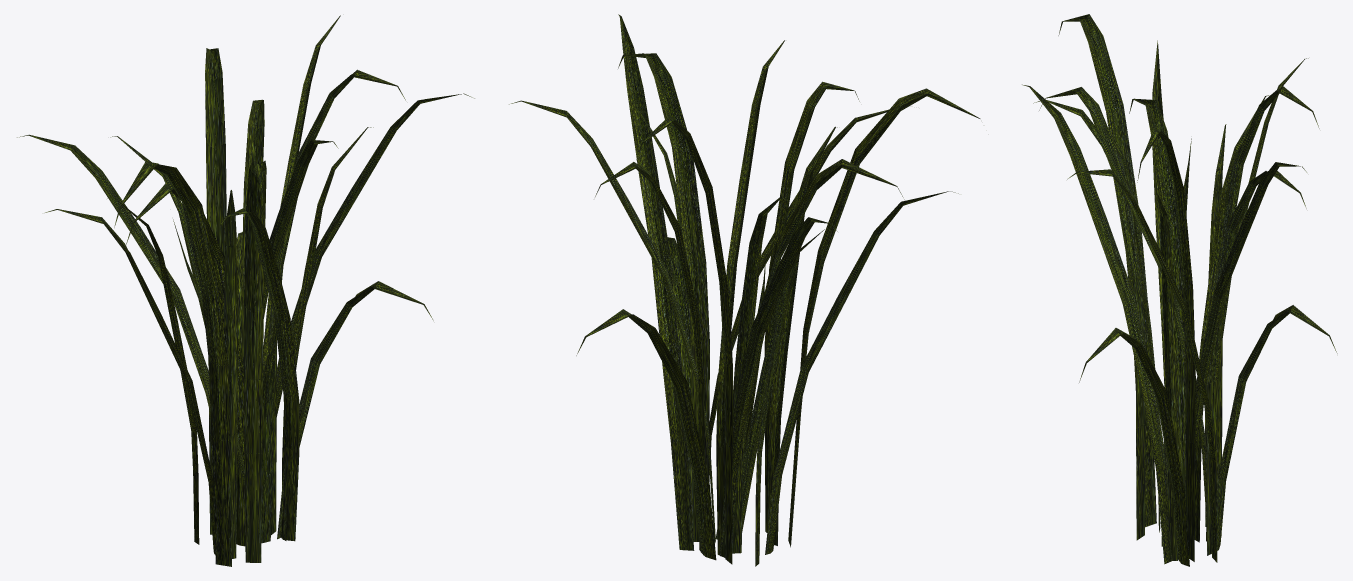
File: alga.obj
3 views of the same model, side by side, from view 1: azimuth 30°, elevation 25°; view 2: azimuth 150°, elevation 25°; view 3: azimuth 270°, elevation 25° (orthographic).
Visible parts, largest first — view 1: alga:Grass_20; view 2: alga:Grass_20; view 3: alga:Grass_20.
Boxes of the visible parts, x1,y1,x2,y2 form: alga:Grass_20: (17,15,474,566); alga:Grass_20: (509,14,980,566); alga:Grass_20: (1022,14,1337,566).
Bounding box in the file's own units: 5.44 × 6.08 × 3.78.
1 material, 1 textured.
